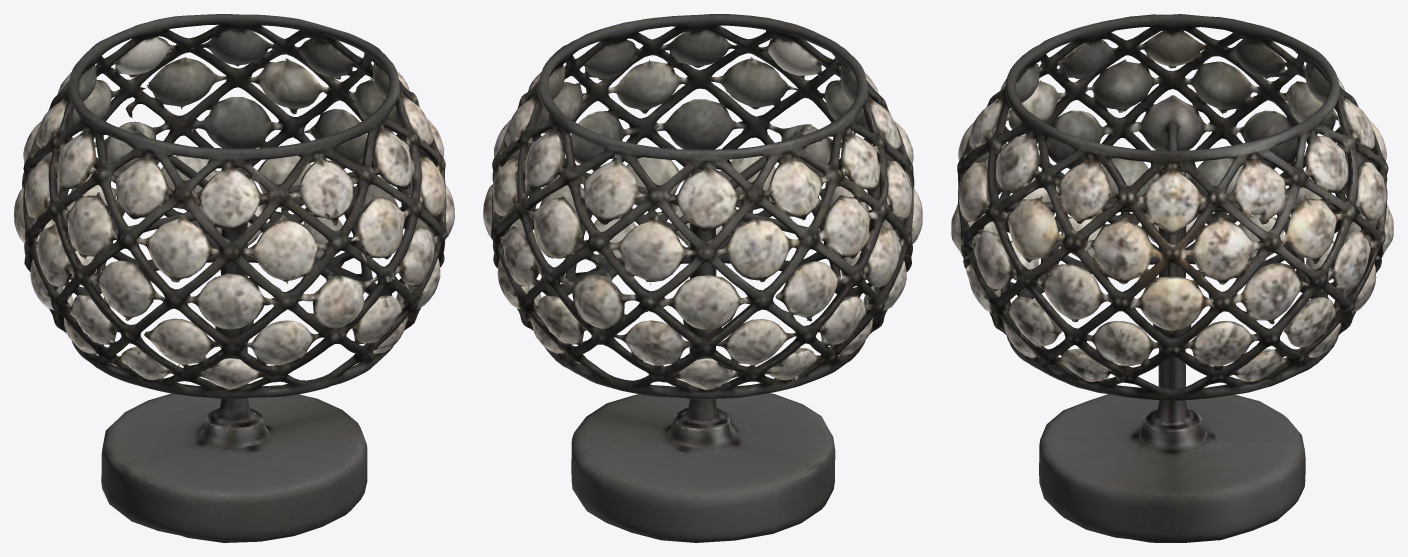
Rendered from lamp1.glb.
3 renders of one model, left to right at view 1: azimuth 30°, elevation 25°; view 2: azimuth 150°, elevation 25°; view 3: azimuth 270°, elevation 25°, orthographic.
Visible parts, largest first — view 1: tripo_node_286e6ff9; view 2: tripo_node_286e6ff9; view 3: tripo_node_286e6ff9.
Part boxes in pixels (left/top/right/bottom): tripo_node_286e6ff9: left=14, top=14, right=454, bottom=542; tripo_node_286e6ff9: left=483, top=14, right=922, bottom=542; tripo_node_286e6ff9: left=951, top=14, right=1393, bottom=542.
Bounding box in the file's own units: 0.5407 × 0.5526 × 0.543.
Materials: 1 (1 with a texture image).
